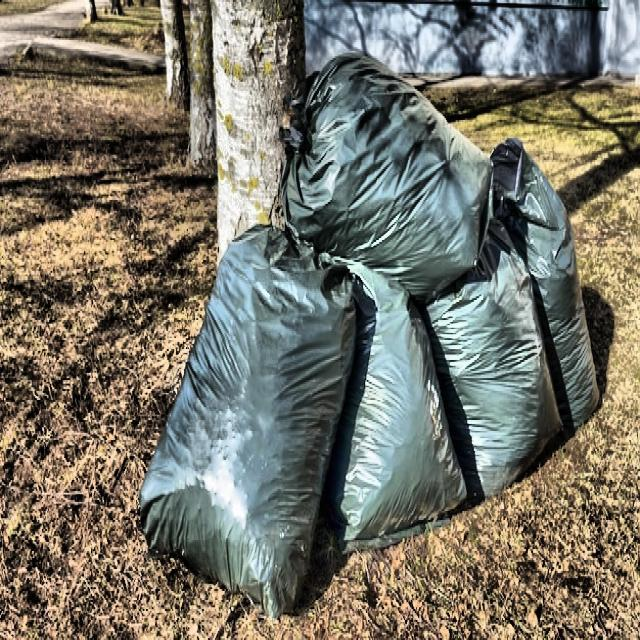Trashbag: (125, 228, 362, 612), (270, 44, 497, 276), (330, 252, 466, 546), (427, 282, 560, 505)
